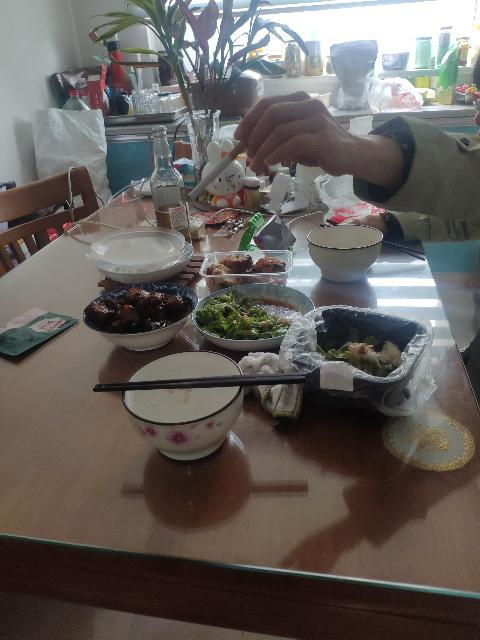Smoking: (189, 134, 253, 200)
